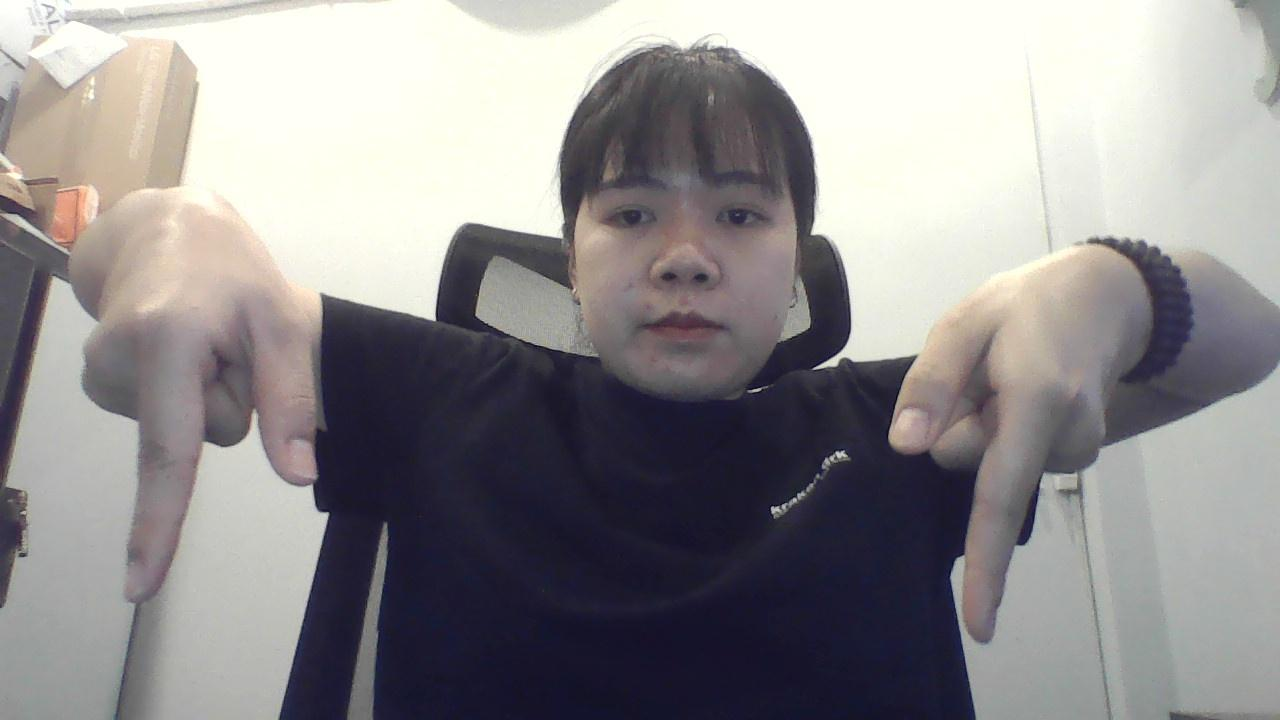Q: (72, 215, 334, 626), (894, 246, 1127, 661)
